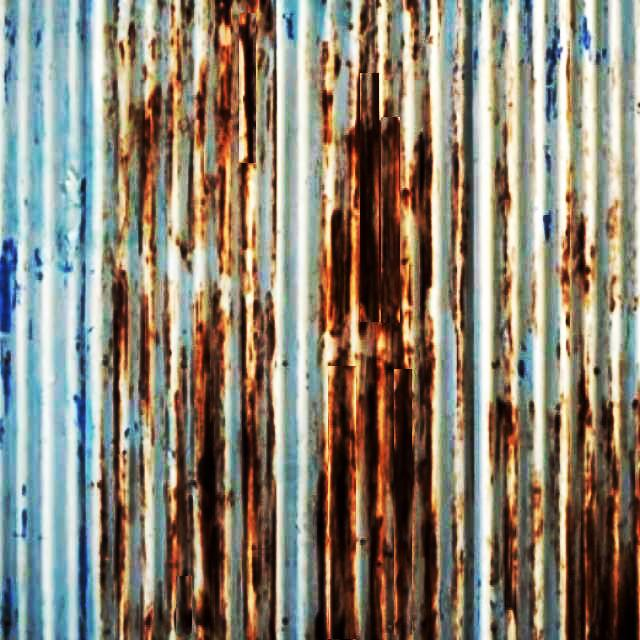Corrosion: (175, 331, 227, 636), (98, 257, 128, 600), (570, 492, 639, 640), (325, 366, 356, 640), (352, 110, 378, 300), (224, 395, 245, 612), (382, 139, 402, 324), (394, 446, 413, 640), (394, 369, 414, 536), (311, 471, 330, 640), (240, 12, 256, 162), (328, 210, 346, 326), (570, 368, 594, 444), (143, 80, 168, 138), (505, 531, 518, 640), (137, 97, 146, 254), (421, 224, 433, 314), (577, 217, 590, 292), (361, 73, 380, 120), (498, 401, 513, 444), (418, 134, 426, 206), (216, 0, 232, 24), (571, 550, 575, 610), (585, 399, 593, 410)
